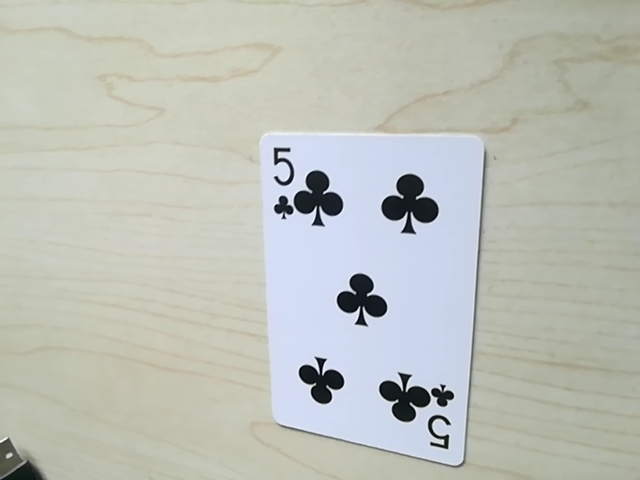mh 5: (263, 144, 308, 222), (420, 391, 459, 460)
